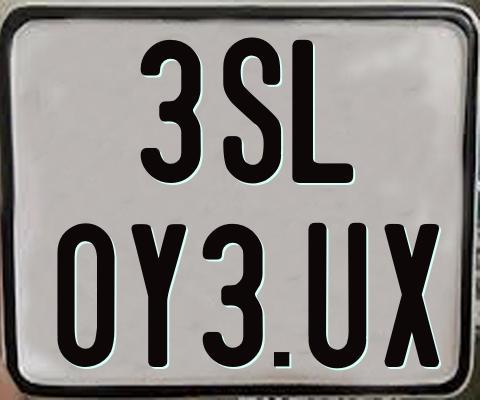0: (56, 222, 115, 368)
3: (199, 222, 266, 367), (138, 40, 204, 185)
L: (289, 40, 352, 186)
S: (222, 36, 281, 184)
U: (306, 222, 365, 371)
X: (384, 222, 445, 370)
Y: (131, 224, 186, 373)
